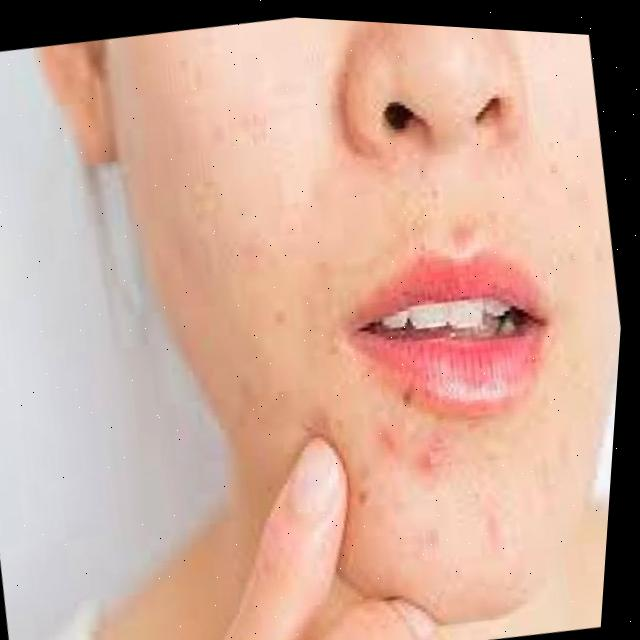Eczema: (353, 388, 489, 504)
